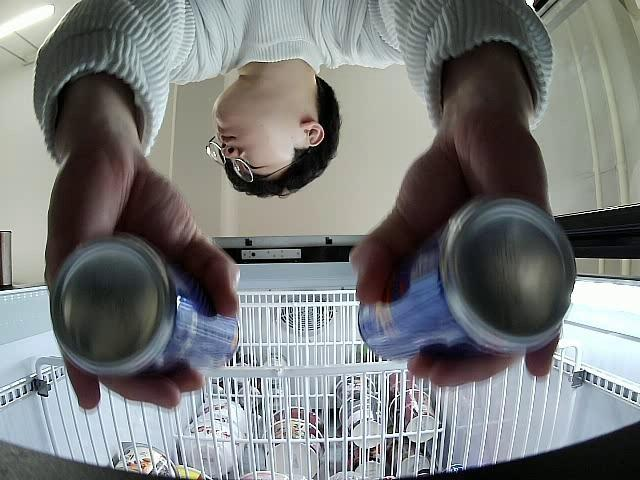16_hot6: (356, 197, 576, 366), (48, 235, 240, 380)
